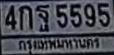4: (4, 4, 15, 29)
5: (97, 2, 109, 26), (69, 3, 81, 27), (55, 3, 67, 27)
9: (83, 2, 95, 26)
A01: (18, 4, 32, 29)
A16: (35, 4, 49, 29)
BKK: (15, 36, 101, 51)
